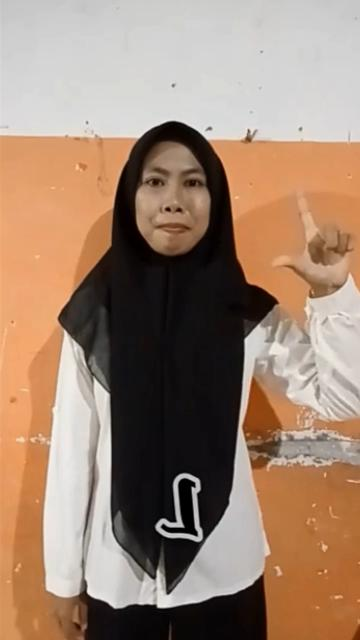L: (267, 188, 359, 288)
